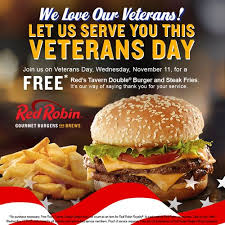hamburger: (85, 93, 214, 199)
